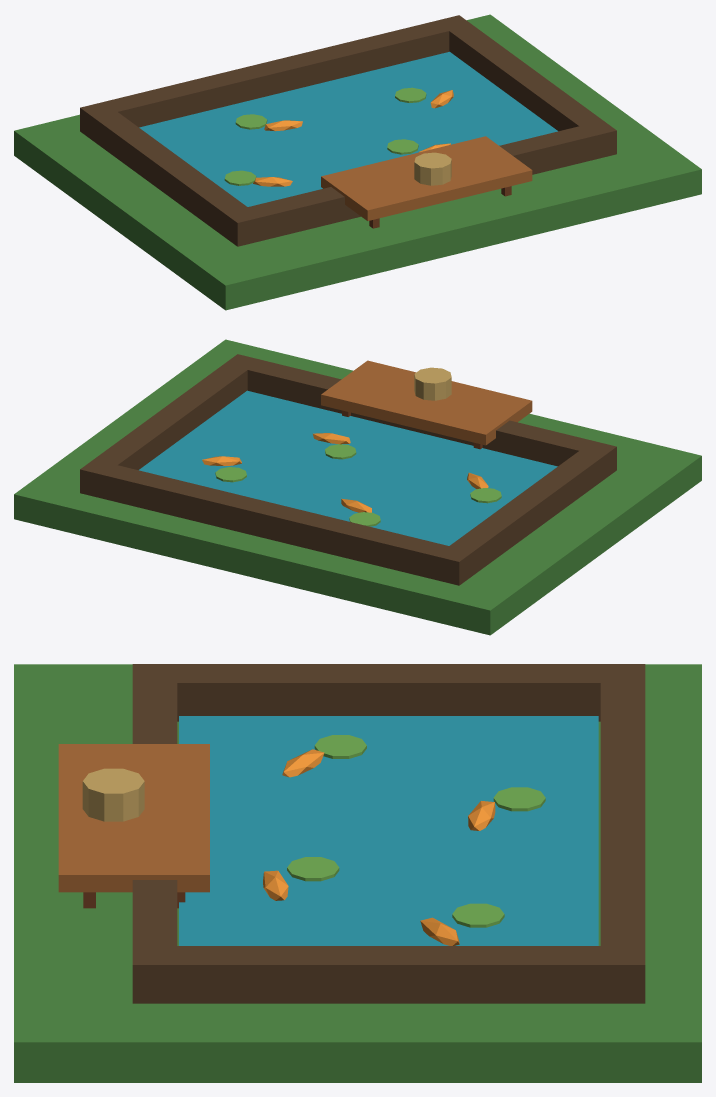
File: fish_pond.glb
3 views of the same model, one above another, from view 1: azimuth 30°, elevation 25°; view 2: azimuth 150°, elevation 25°; view 3: azimuth 270°, elevation 25° (orthographic). The views are drawn at different scales.
Parts seen in each view (by area): view 1: TerrainBase, PondWater, PondBank.003, FeedingDeck, PondBank.002, PondBank, PondBank.001, FeedBasket; view 2: TerrainBase, PondWater, PondBank.003, FeedingDeck, PondBank.002, PondBank, PondBank.001, FeedBasket; view 3: TerrainBase, PondWater, PondBank.001, PondBank, FeedingDeck, PondBank.003, PondBank.002, FeedBasket, LilyPad.003, LilyPad.002, LilyPad.001, LilyPad (+2 smaller).
Part boxes in pixels (x1,y1,x2,y2): TerrainBase: [14, 14, 701, 310]; PondWater: [139, 51, 557, 206]; PondBank.003: [80, 15, 472, 140]; FeedingDeck: [321, 136, 532, 220]; PondBank.002: [224, 120, 616, 246]; PondBank: [87, 111, 254, 236]; PondBank.001: [443, 20, 602, 131]; FeedBasket: [414, 152, 451, 185]; TerrainBase: [14, 339, 701, 635]; PondWater: [139, 390, 557, 545]; PondBank.003: [80, 463, 472, 585]; FeedingDeck: [321, 360, 532, 445]; PondBank.002: [229, 354, 616, 479]; PondBank: [442, 451, 603, 575]; PondBank.001: [87, 359, 253, 470]; FeedBasket: [414, 367, 451, 400]; TerrainBase: [14, 664, 701, 1082]; PondWater: [179, 716, 598, 945]; PondBank.001: [155, 946, 622, 1003]; PondBank: [155, 664, 622, 721]; FeedingDeck: [58, 744, 209, 892]; PondBank.003: [600, 664, 645, 1003]; PondBank.002: [132, 664, 177, 1003]; FeedBasket: [82, 768, 144, 821]; LilyPad.003: [452, 903, 504, 927]; LilyPad.002: [287, 857, 339, 881]; LilyPad.001: [493, 787, 545, 811]; LilyPad: [314, 735, 366, 758].
Size of the model in its own units: 13 by 1.81 by 10.
